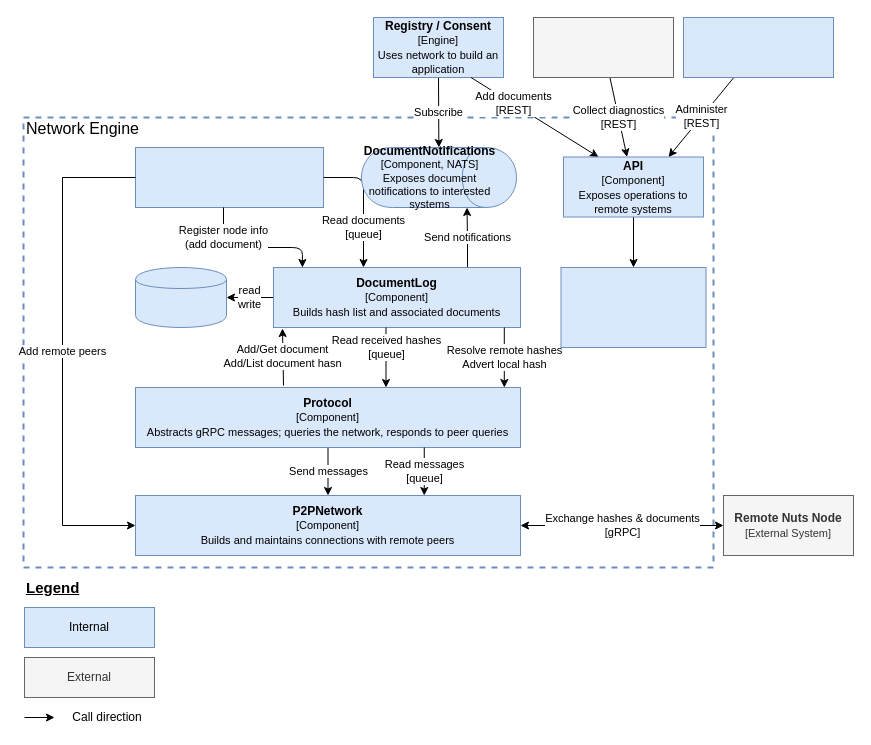
This 871x745 diagram has some shape labels left out. The box of each missing label's shape, as (x1, y1, x2, y2) in pixels:
Command-Line Interface [Application] Remote administration of the engine: (682, 16, 834, 78)
Document store [Database]: (134, 266, 226, 328)
Monitor [External System] Monitors state of the engine: (532, 16, 674, 78)
Network [Component] Orchestrates the engine, collects diagnostics: (560, 266, 706, 348)
NodeList [Component] Discovers new peers by reading nodelist from the network: (134, 146, 324, 208)
